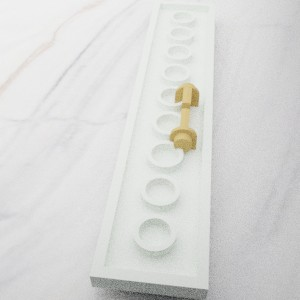lego: (89, 0, 215, 299), (159, 82, 206, 163)
